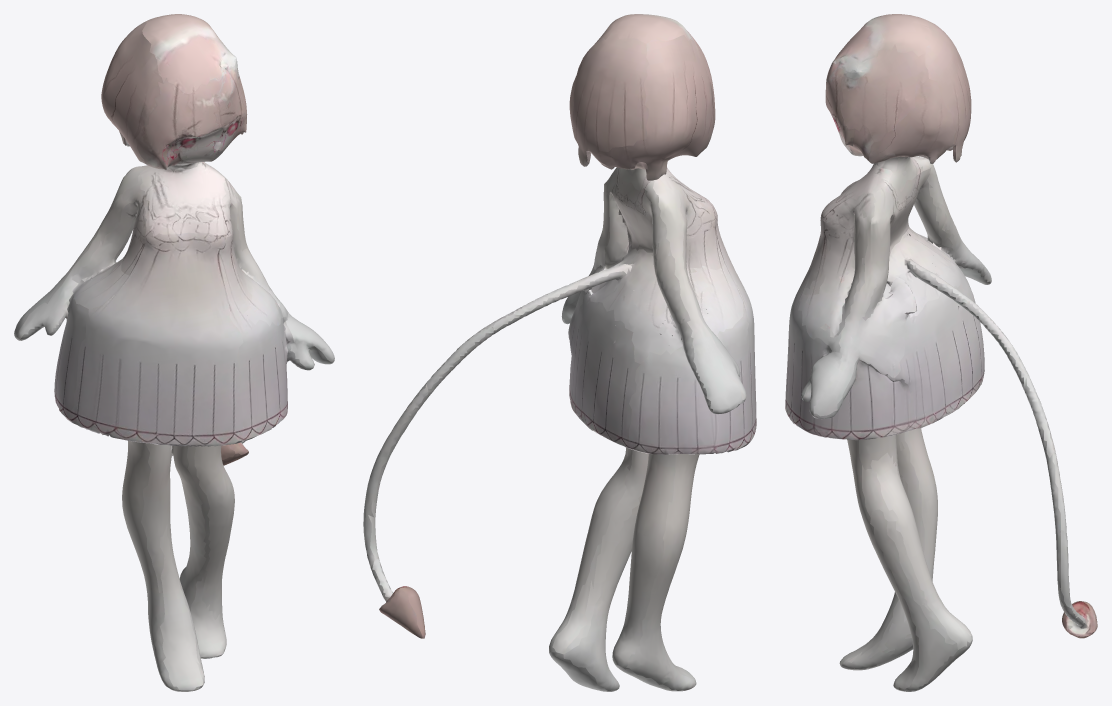
Rendered from character.glb.
3 renders of one model, left to right at view 1: azimuth 30°, elevation 25°; view 2: azimuth 150°, elevation 25°; view 3: azimuth 270°, elevation 25°, orthographic. The views are drawn at different scales.
Visible parts, largest first — view 1: textured_meshobj; view 2: textured_meshobj; view 3: textured_meshobj.
Part boxes in pixels (x1,y1,x2,y2): textured_meshobj: [14, 14, 334, 691]; textured_meshobj: [363, 14, 756, 691]; textured_meshobj: [785, 14, 1097, 691].
Size of the model in its own units: 1.01 by 1.99 by 0.8629.
Materials: 1 (1 with a texture image).
